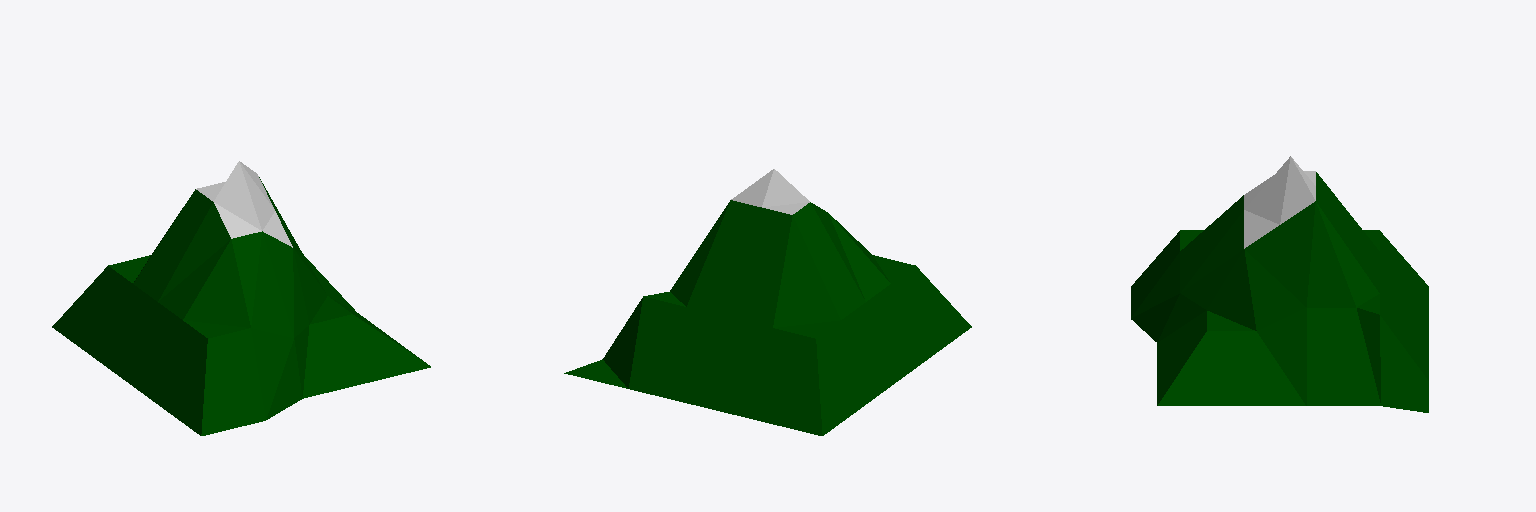
The model's file is mountain.obj.
The picture shows the model from 3 angles: view 1: azimuth 30°, elevation 25°; view 2: azimuth 150°, elevation 25°; view 3: azimuth 270°, elevation 25°; orthographic projection.
Parts seen in each view (by area): view 1: mountiain_mountain; view 2: mountiain_mountain; view 3: mountiain_mountain.
Boxes of the visible parts, x1,y1,x2,y2 form: mountiain_mountain: [52, 161, 430, 435]; mountiain_mountain: [564, 169, 971, 435]; mountiain_mountain: [1131, 156, 1428, 412].
Bounding box in the file's own units: 0.6113 × 0.4255 × 0.6113.